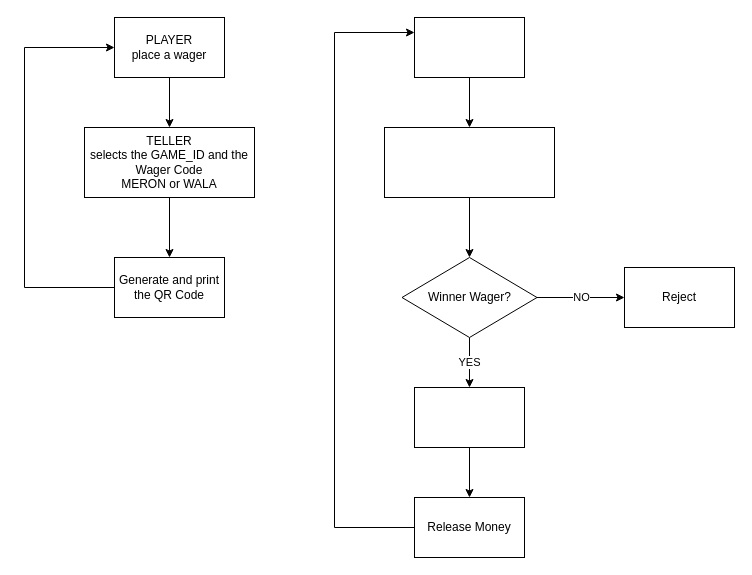
This 752x575 diagram has some shape labels left out. The centre of each missing label's shape, as x and y in pixels:
"PLAYER initiate cash out" goes at (x=469, y=47).
"TELLER Scans the QR Code" goes at (x=469, y=162).
"Update status of wager" goes at (x=469, y=417).
